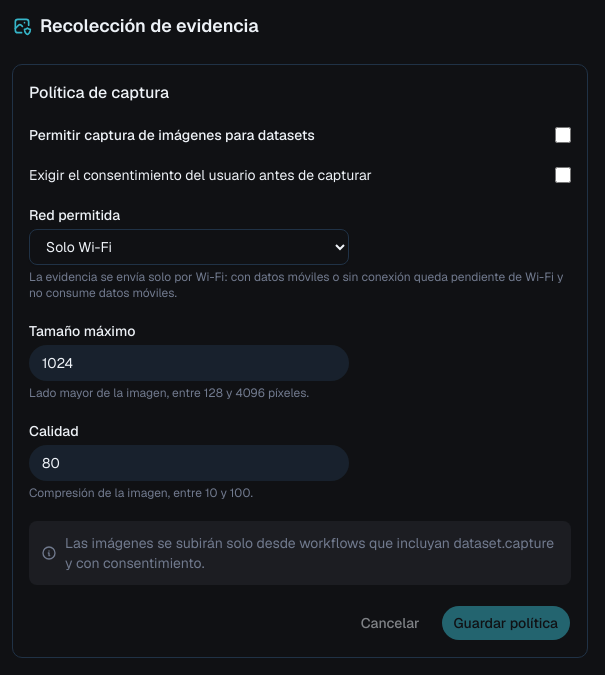
Scenario: US-063: Configurar la política de recolección › lets an administrator enable collection with consent, quality and network
Step 1. Click the switch labelled "Permitir captura de imágenes para datasets" → [563, 135], box [555,127,571,143]
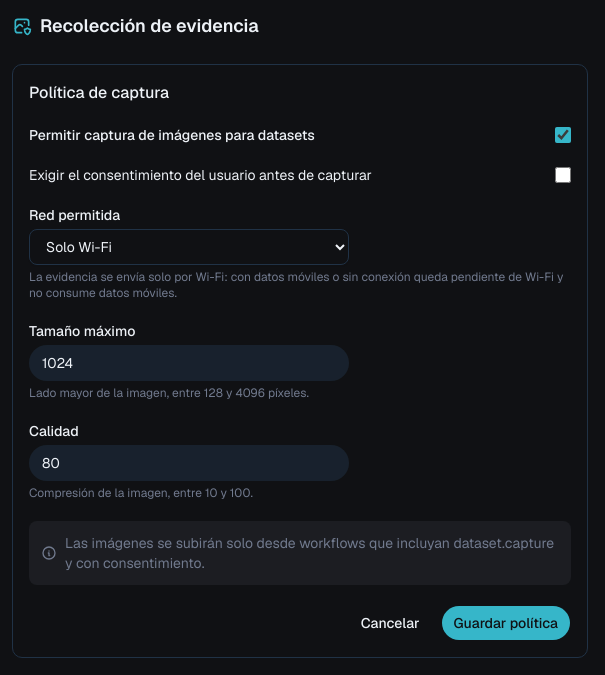
Step 2. Click the checkbox labelled "Exigir el consentimiento del usuario antes de capturar" → [563, 175], box [555,167,571,183]
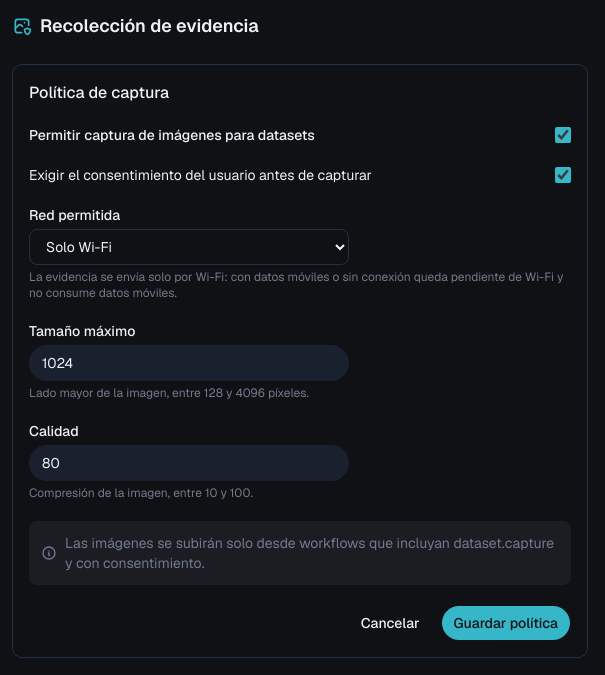
Step 3. Select "Wi-Fi y datos móviles" in the dropdown labelled "Red permitida" → [189, 247], box [29,229,349,265]
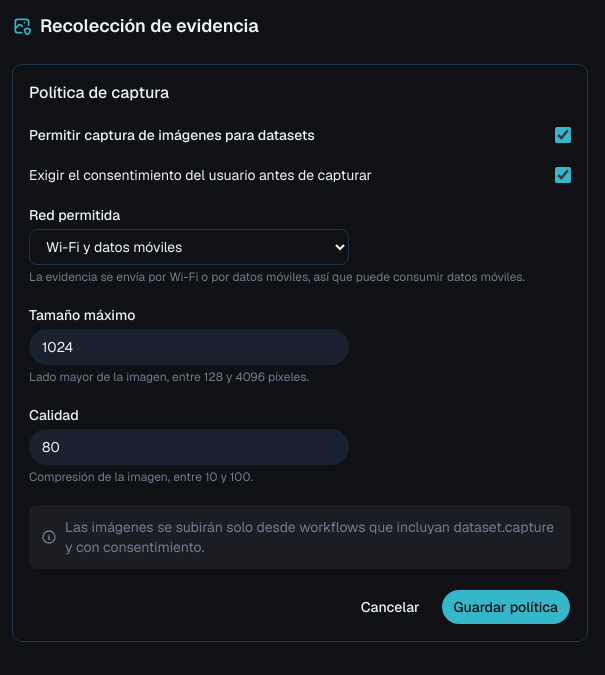
Step 4. Replace the text in the number field labelled "Tamaño máximo" with "640" → [189, 347], box [29,329,349,365]
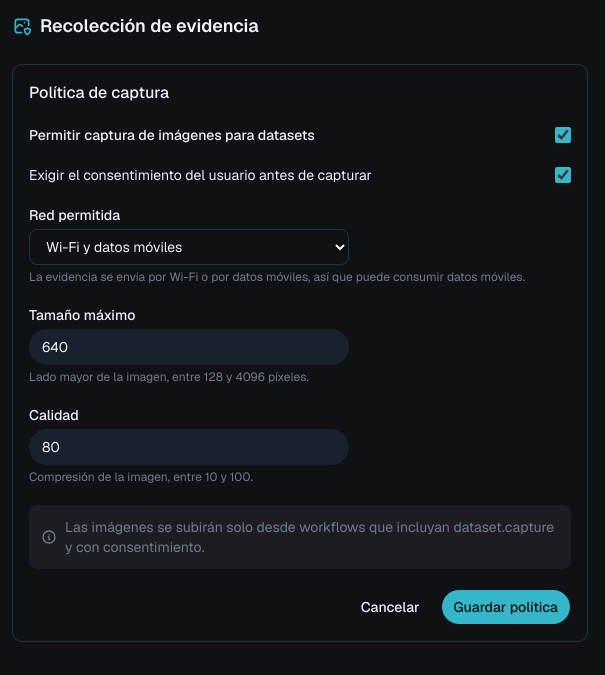
Step 5. Replace the text in the number field labelled "Calidad" with "75" → [189, 447], box [29,429,349,465]
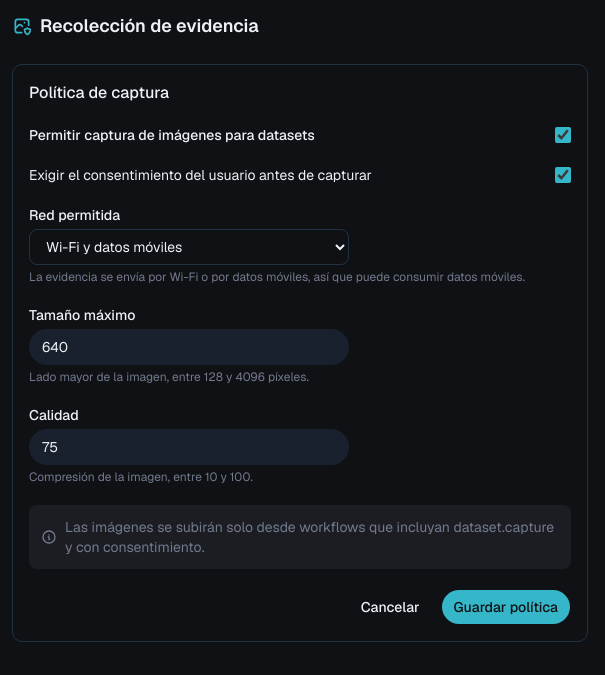
Step 6. Click the button "Guardar política" → [506, 607], box [441,589,571,625]
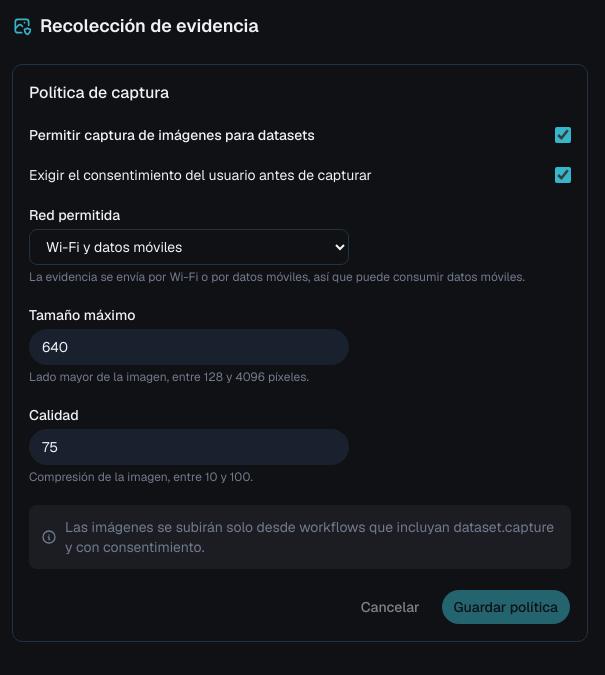
Now the switch labelled "Permitir captura de imágenes para datasets" is checked, box [555,127,571,143]
Now the checkbox labelled "Exigir el consentimiento del usuario antes de capturar" is checked, box [555,167,571,183]
Now the button "Guardar política" is disabled, box [441,589,571,625]
